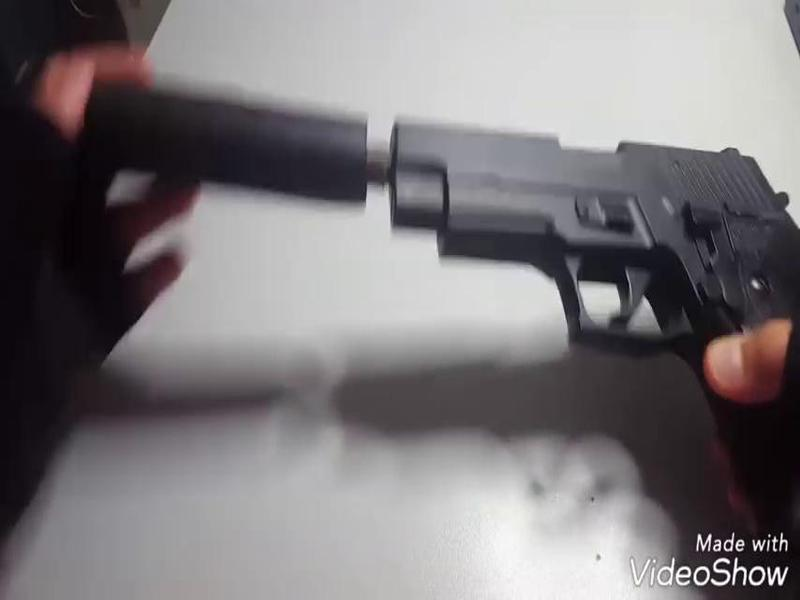Pistola: (367, 99, 800, 534)
